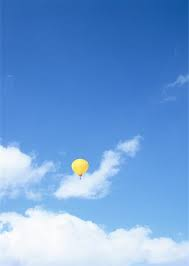Balloon: (70, 157, 89, 175)
